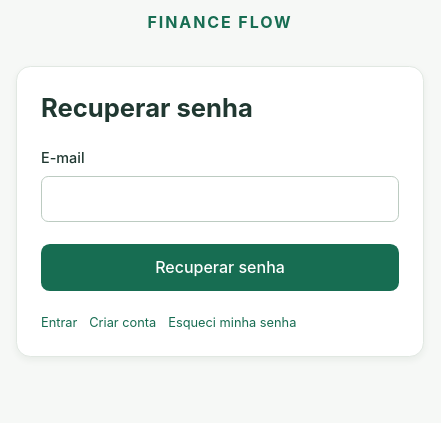
Test: autenticação Web › recuperação utiliza rota de retorno e mensagem neutra
The image size is (441, 423).
Type "test@example.com" into the field labelled "E-mail" at (220, 199), box [41,176,399,222]
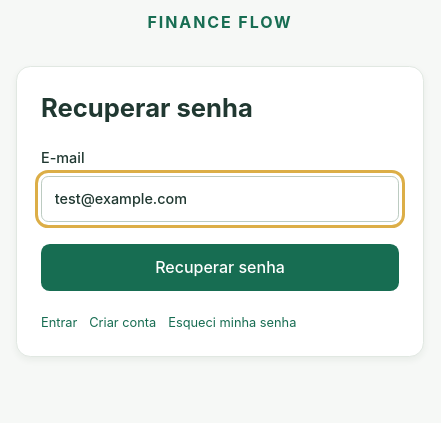
Click the button "Recuperar senha" at (220, 267), box [41,244,399,291]
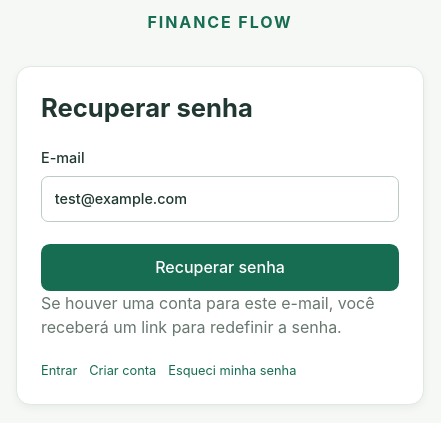
Now the message shows "Se houver uma conta", box [41,293,374,337]
